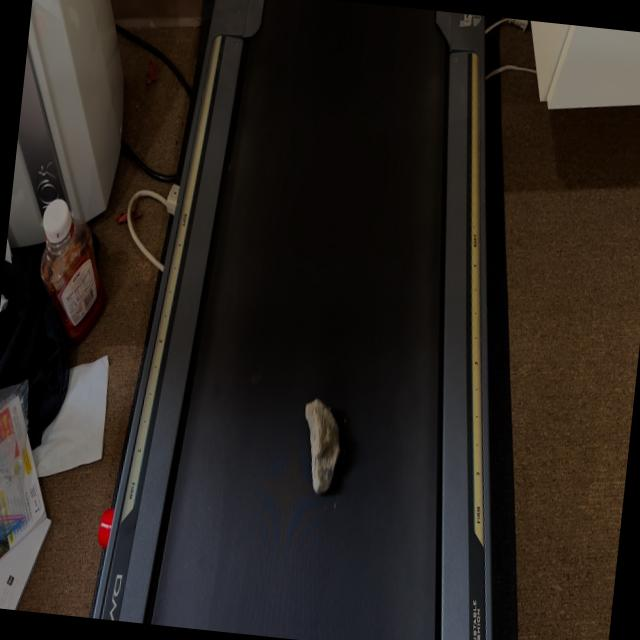Recycle: (294, 395, 346, 497)
